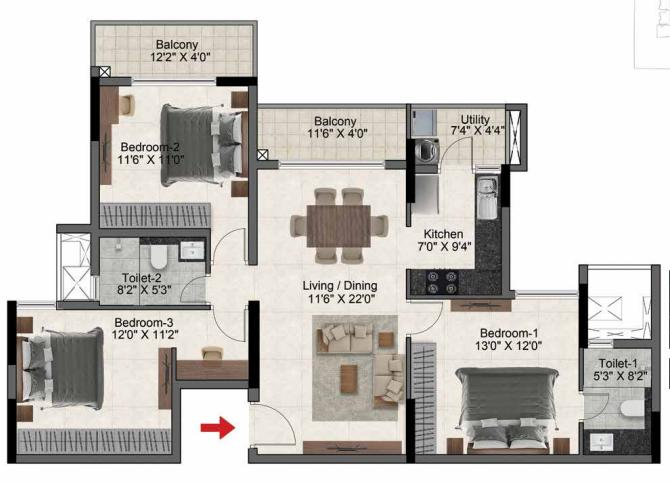Balcony: (93, 25, 256, 82), (261, 103, 404, 166)
Bed: (461, 364, 554, 455), (161, 105, 252, 186), (17, 330, 102, 411)
Bedroom: (409, 299, 581, 455), (16, 309, 177, 456)
Dining Room: (253, 169, 403, 306)
Dining table: (291, 185, 387, 269)
Kitchen: (409, 167, 504, 296)
Living Room: (256, 310, 410, 456)
Sofa: (319, 323, 373, 353), (375, 355, 403, 401)
Wardrobe: (18, 426, 173, 455), (409, 342, 435, 463), (100, 203, 213, 229)
commode: (150, 244, 167, 270), (622, 401, 644, 417)
door: (251, 403, 296, 447), (211, 303, 252, 340), (210, 229, 245, 261), (581, 391, 608, 423), (182, 279, 209, 310)
fridge: (410, 175, 440, 213)
kitchen-slab: (474, 172, 501, 293), (407, 270, 504, 294)
sink: (476, 175, 498, 221), (589, 432, 612, 453), (179, 240, 204, 259)
stove: (428, 269, 458, 295)
toilet: (582, 347, 656, 456), (99, 236, 209, 306)
tv: (299, 436, 400, 455), (157, 347, 177, 409), (451, 297, 512, 315), (97, 124, 114, 186)
utility: (411, 108, 516, 163)
wash: (176, 307, 256, 383)
washing-machine: (414, 138, 438, 163)
